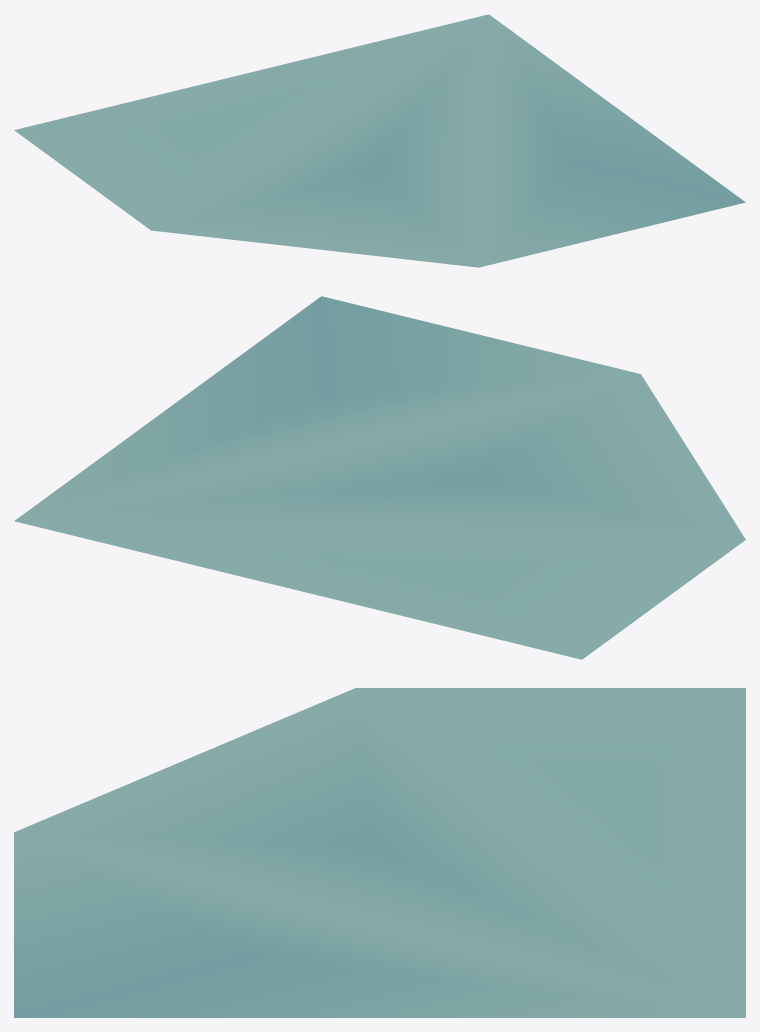
The model's file is water-18-12.glb.
3 views of the same model, one above another, from view 1: azimuth 30°, elevation 25°; view 2: azimuth 150°, elevation 25°; view 3: azimuth 270°, elevation 25° (orthographic). The views are drawn at different scales.
Size of the model in its own units: 16 by 0 by 15.
